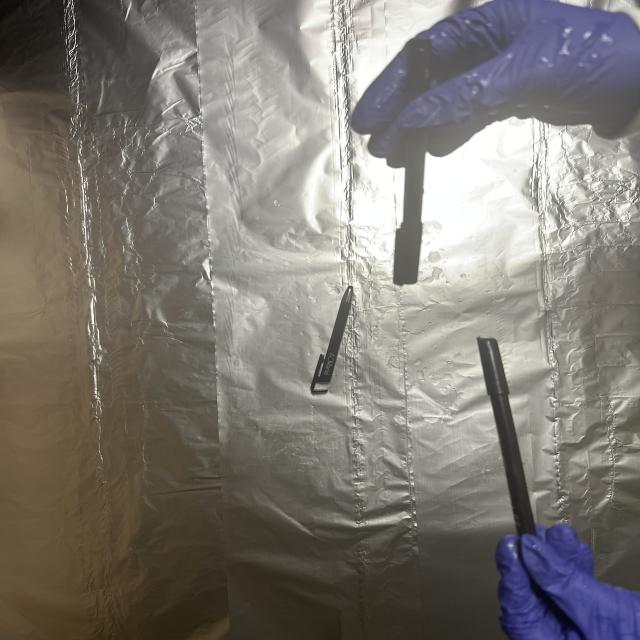gloves_contaminated: (352, 0, 640, 165), (495, 524, 640, 640)
